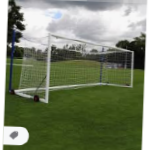goals: (11, 31, 137, 104)
